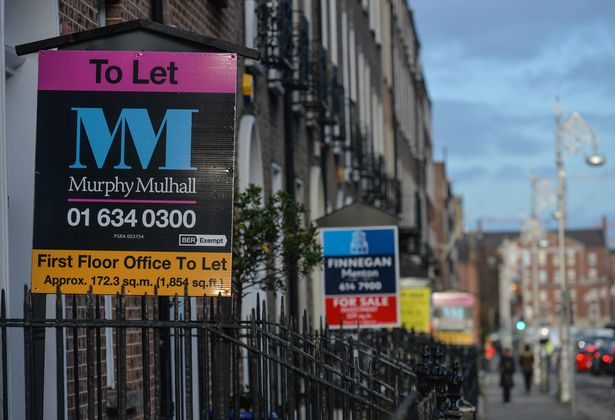property sign: (24, 37, 241, 309), (302, 207, 407, 337), (434, 286, 483, 355)
